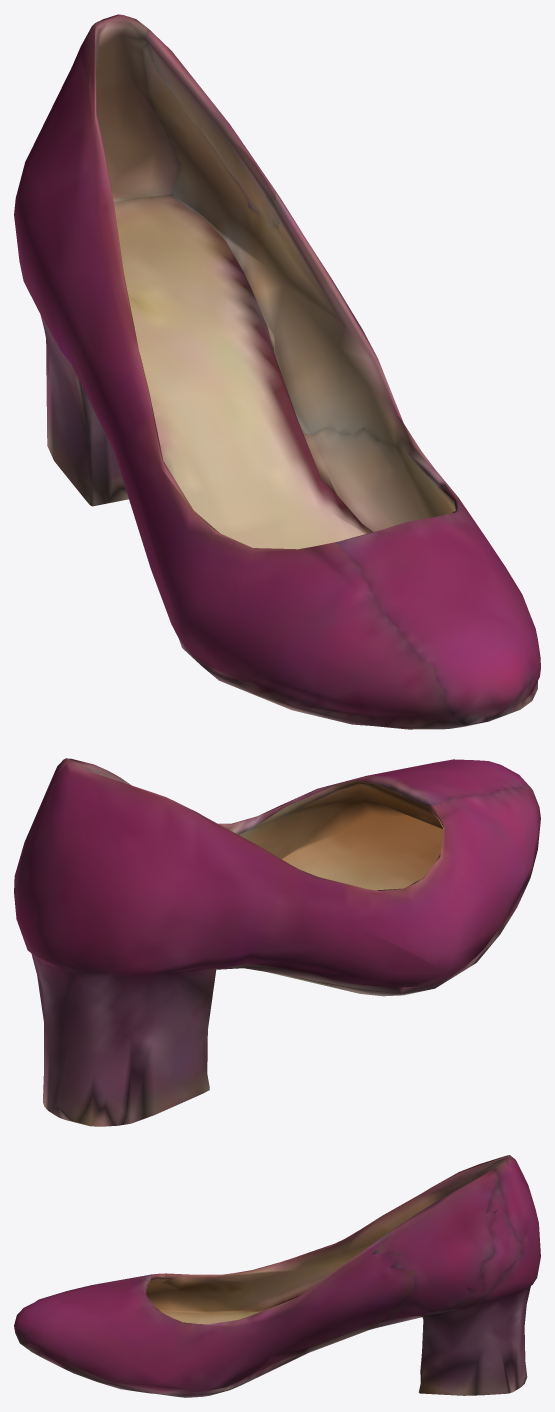
The model's file is Chelsea_lo_fl_rdheel_zAQrnhlEfw8-medium.glb.
The picture shows the model from 3 angles, top to bottom: view 1: azimuth 30°, elevation 25°; view 2: azimuth 150°, elevation 25°; view 3: azimuth 270°, elevation 25°; orthographic projection. The views are drawn at different scales.
Parts seen in each view (by area): view 1: Chelsea_lo_fl_rdheel_zAQrnhlEfw8; view 2: Chelsea_lo_fl_rdheel_zAQrnhlEfw8; view 3: Chelsea_lo_fl_rdheel_zAQrnhlEfw8.
Boxes of the visible parts, x1,y1,x2,y2 form: Chelsea_lo_fl_rdheel_zAQrnhlEfw8: [14, 14, 540, 729]; Chelsea_lo_fl_rdheel_zAQrnhlEfw8: [14, 758, 540, 1126]; Chelsea_lo_fl_rdheel_zAQrnhlEfw8: [14, 1155, 540, 1397].
Size of the model in its own units: 0.0856 by 0.123 by 0.2563.
Materials: 1 (1 with a texture image).
